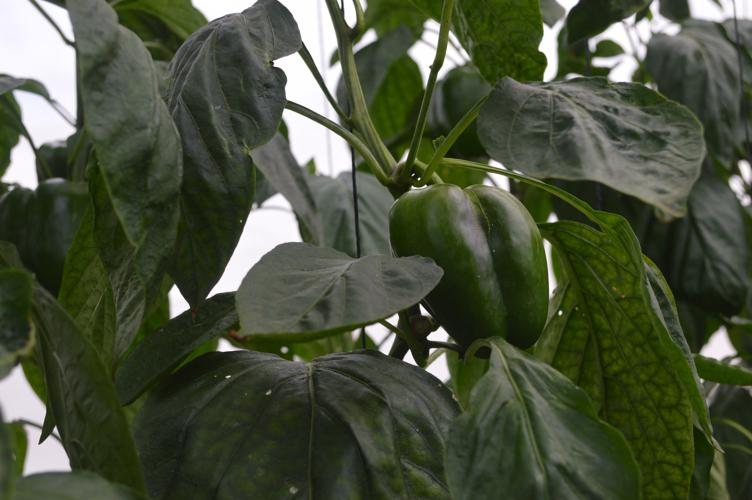BellPepper: (387, 183, 549, 351), (16, 176, 88, 285), (420, 72, 495, 154)
